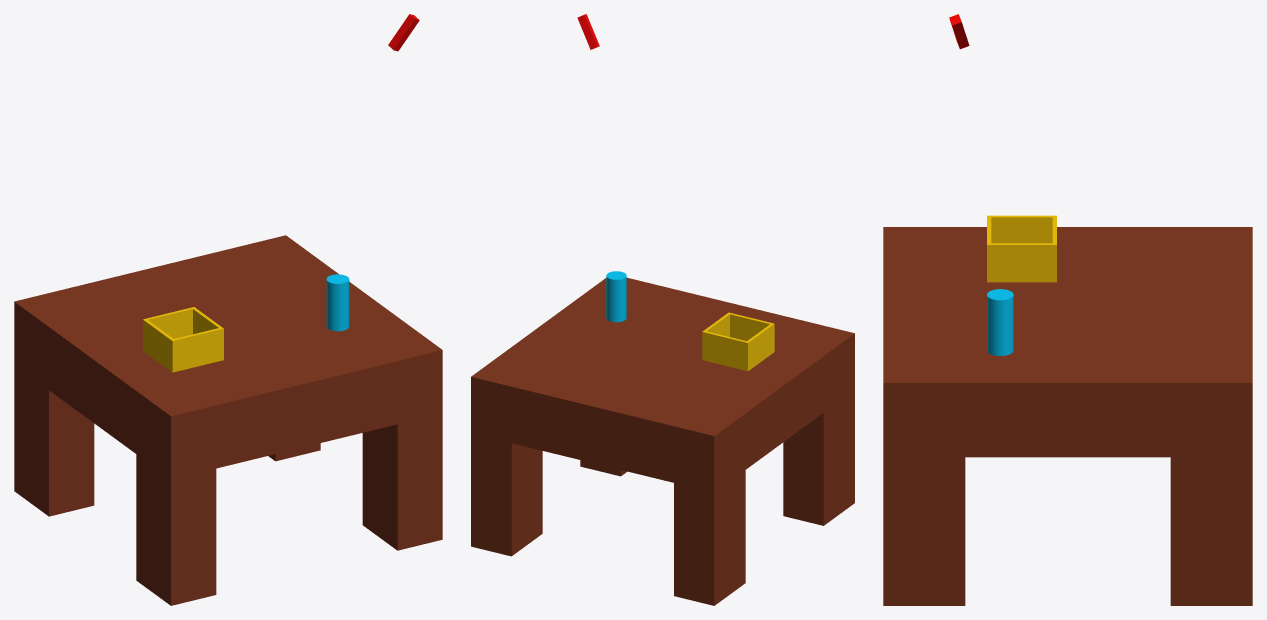
File: problem_1.dae
3 renders of one model, left to right at view 1: azimuth 30°, elevation 25°; view 2: azimuth 150°, elevation 25°; view 3: azimuth 270°, elevation 25°, orthographic. The views are drawn at different scales.
Parts seen in each view (by area): view 1: base (×9); view 2: base (×8); view 3: base (×6).
Boxes of the visible parts, left/top/right/bottom form: base (×9): left=14, top=235, right=442, bottom=605; base (×8): left=471, top=271, right=854, bottom=605; base (×6): left=883, top=215, right=1252, bottom=605.
Size of the model in its own units: 0.9205 by 0.9 by 1.59.
